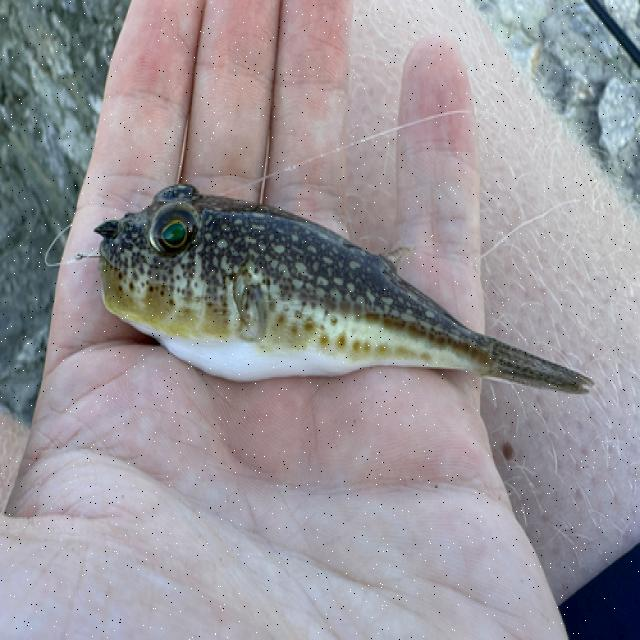Balik: (96, 185, 592, 392)
